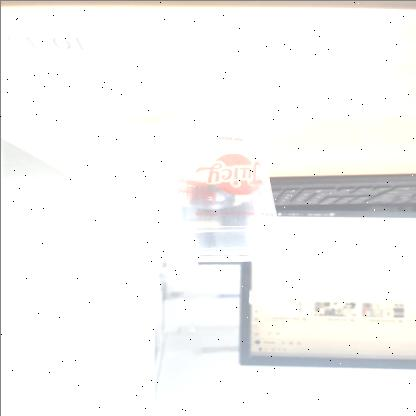Others: (123, 110, 297, 262)
